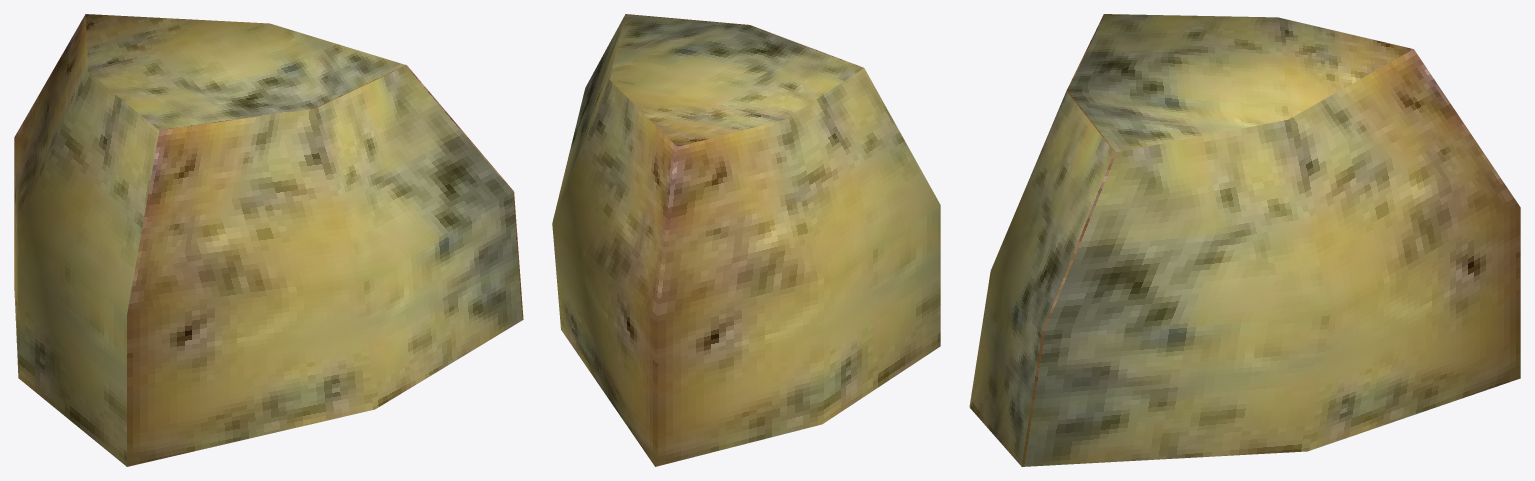
File: cheese.glb
3 renders of one model, left to right at view 1: azimuth 30°, elevation 25°; view 2: azimuth 150°, elevation 25°; view 3: azimuth 270°, elevation 25°, orthographic. The views are drawn at different scales.
Parts seen in each view (by area): view 1: cheese.ms3d.mo; view 2: cheese.ms3d.mo; view 3: cheese.ms3d.mo.
Part boxes in pixels (x1,y1,x2,y2): cheese.ms3d.mo: (14,14,523,466); cheese.ms3d.mo: (552,14,940,466); cheese.ms3d.mo: (969,14,1520,466).
Bounding box in the file's own units: 4.43 × 3.35 × 4.88.
Materials: 1 (1 with a texture image).
